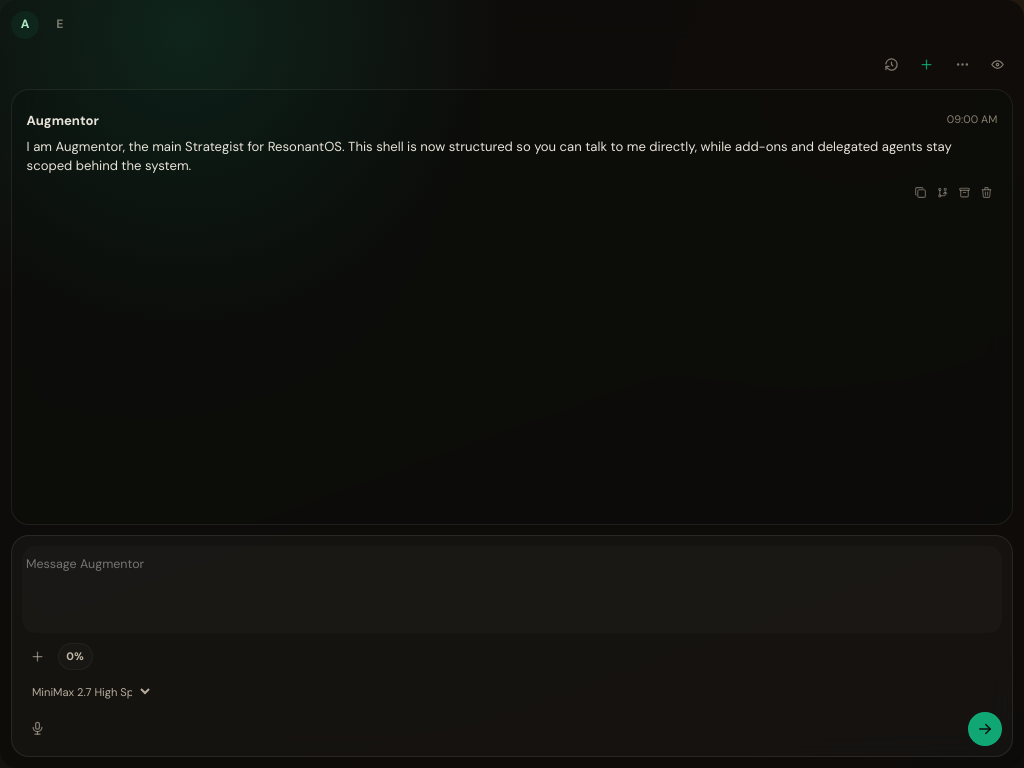
Scenario: App boot flow › keeps floating chat history local to the detached window
Click the button named "Show chat history" at (891, 64), box [876,49,906,79]
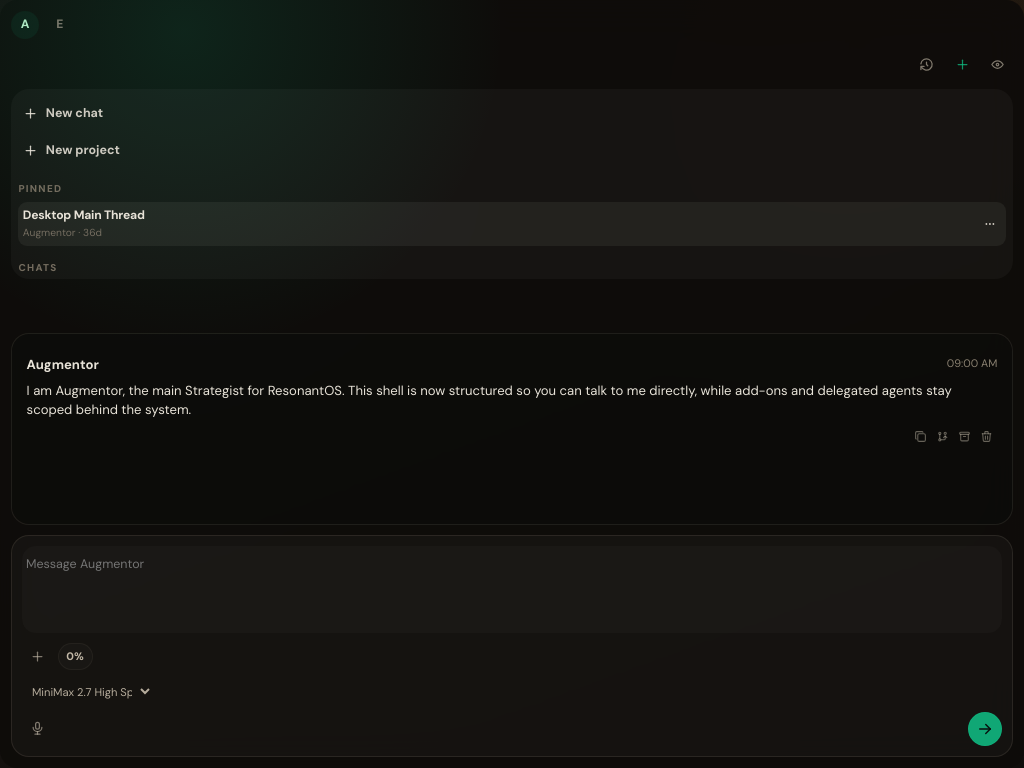
Check: the element named "Chat history" is shown, box [11,89,1013,279]
